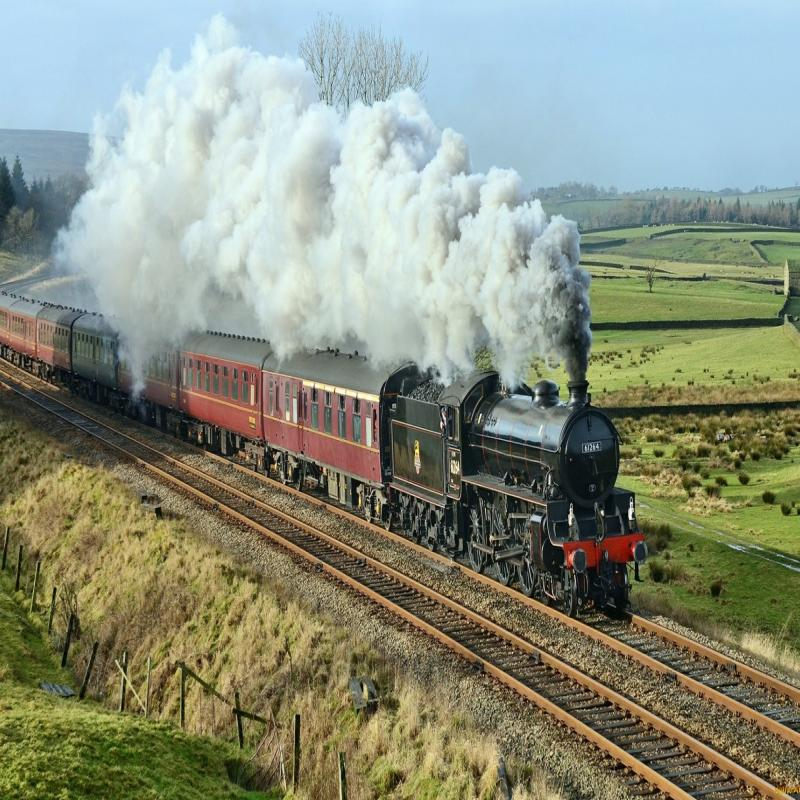train: (383, 337, 658, 621), (267, 314, 415, 527), (181, 307, 281, 486)
